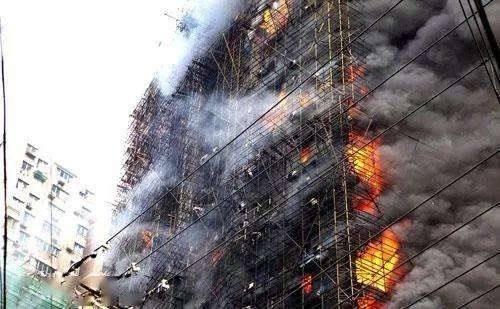fire: (354, 229, 402, 290), (345, 131, 383, 184), (343, 61, 370, 111), (259, 1, 290, 33), (263, 91, 289, 128), (140, 228, 155, 248), (300, 275, 315, 294), (298, 145, 312, 163), (209, 247, 224, 263)
